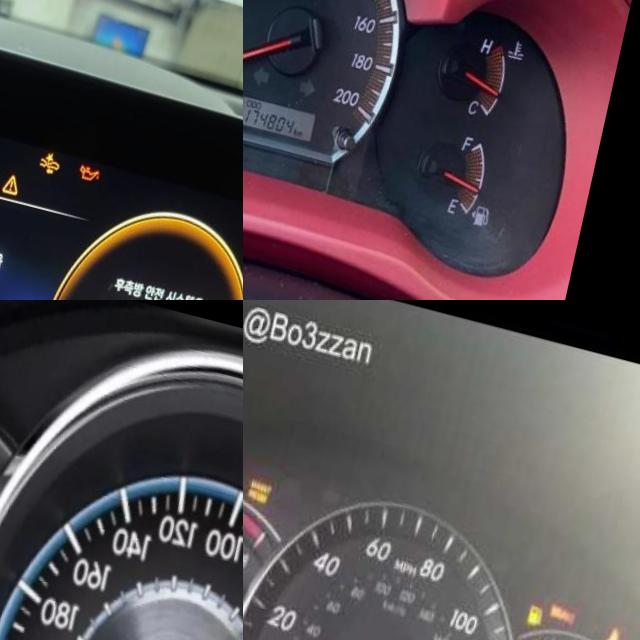Central Warning lamp: (11, 152, 32, 176)
Seat Belt: (623, 598, 636, 622)
